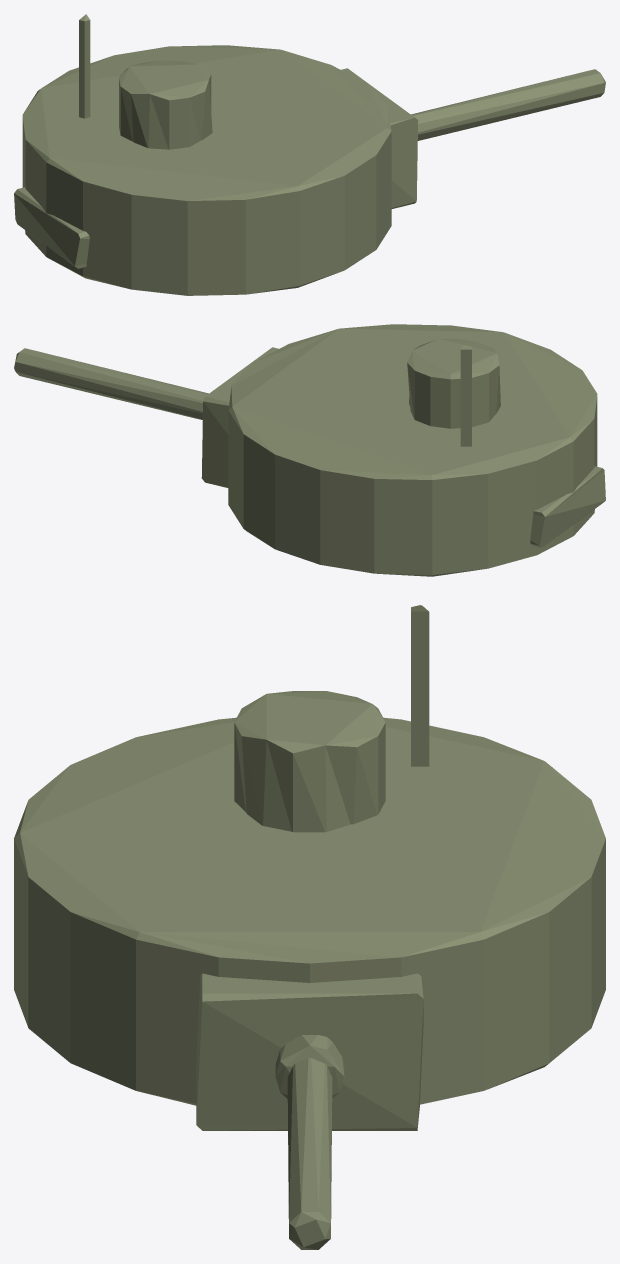
The model's file is sherman_turret.lod1.glb.
3 renders of one model, top to bottom at view 1: azimuth 30°, elevation 25°; view 2: azimuth 150°, elevation 25°; view 3: azimuth 270°, elevation 25°, orthographic. The views are drawn at different scales.
Size of the model in its own units: 2.98 by 1.07 by 1.72.
